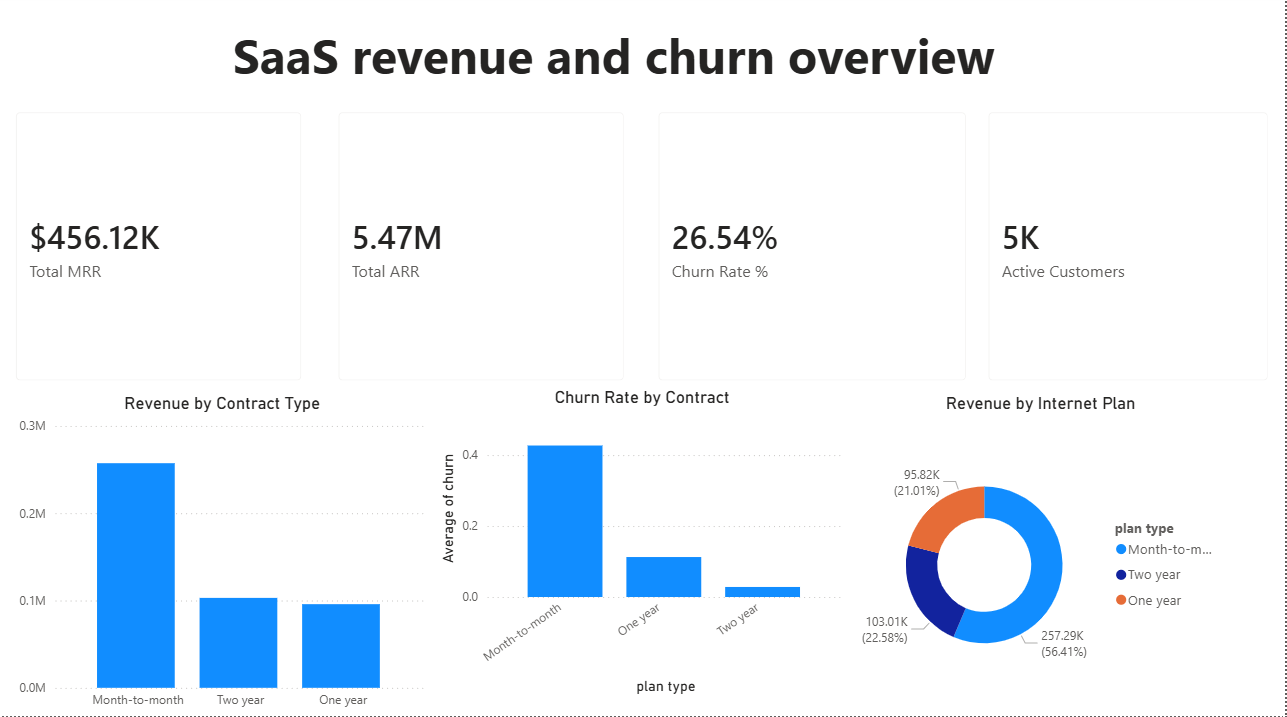

The page's visual inventory and layout, read from the dashboard file:
{"tool":"powerbi","page":{"name":"overview","canvas":[1280,720],"ordinal":0},"visuals":[{"type":"cardVisual","fields":{"Data":["saas_ai_dashboard_ready.Total MRR"]},"box":[0,100.2,318.4,301.9],"z":0},{"type":"cardVisual","fields":{"Data":["saas_ai_dashboard_ready.Total ARR"]},"box":[321.1,100.2,318.4,301.9],"z":1000},{"type":"cardVisual","fields":{"Data":["saas_ai_dashboard_ready.Churn Rate %"]},"box":[639.5,100.2,340.3,301.9],"z":2000},{"type":"cardVisual","fields":{"Data":["saas_ai_dashboard_ready.Active Customers"]},"box":[967.4,100.2,312.9,301.9],"z":3000},{"type":"textbox","box":[15.1,22,1193.8,94.7],"z":4000},{"type":"clusteredColumnChart","title":"Revenue by Contract Type","fields":{"Category":["saas_ai_dashboard_ready.subscription_type"],"Y":["Sum(saas_ai_dashboard_ready.monthly_price)"]},"box":[15.1,396.6,414.4,323.8],"z":5000},{"type":"columnChart","title":"Churn Rate by Contract","fields":{"Category":["saas_ai_dashboard_ready.subscription_type"],"Y":["Avg(saas_ai_dashboard_ready.churn)"]},"box":[433.6,391.1,411.7,311.5],"z":6000},{"type":"donutChart","title":"Revenue by Internet Plan","fields":{"Category":["saas_ai_dashboard_ready.subscription_type"],"Y":["Sum(saas_ai_dashboard_ready.monthly_price)"]},"box":[845.3,396.6,381.5,323.8],"z":7000}]}

Visuals, with their boxes in screenshot pixels (x1, y1, x2, y2), scaled from the page's 1280x720 canvas onto the 1287x717 screenshot:
cardVisual - saas_ai_dashboard_ready.Total MRR: select_region(0, 100, 320, 400)
cardVisual - saas_ai_dashboard_ready.Total ARR: select_region(323, 100, 643, 400)
cardVisual - saas_ai_dashboard_ready.Churn Rate %: select_region(643, 100, 985, 400)
cardVisual - saas_ai_dashboard_ready.Active Customers: select_region(973, 100, 1286, 400)
textbox: select_region(15, 22, 1216, 116)
"Revenue by Contract Type" clusteredColumnChart: select_region(15, 395, 432, 716)
"Churn Rate by Contract" columnChart: select_region(436, 389, 850, 700)
"Revenue by Internet Plan" donutChart: select_region(850, 395, 1234, 716)
